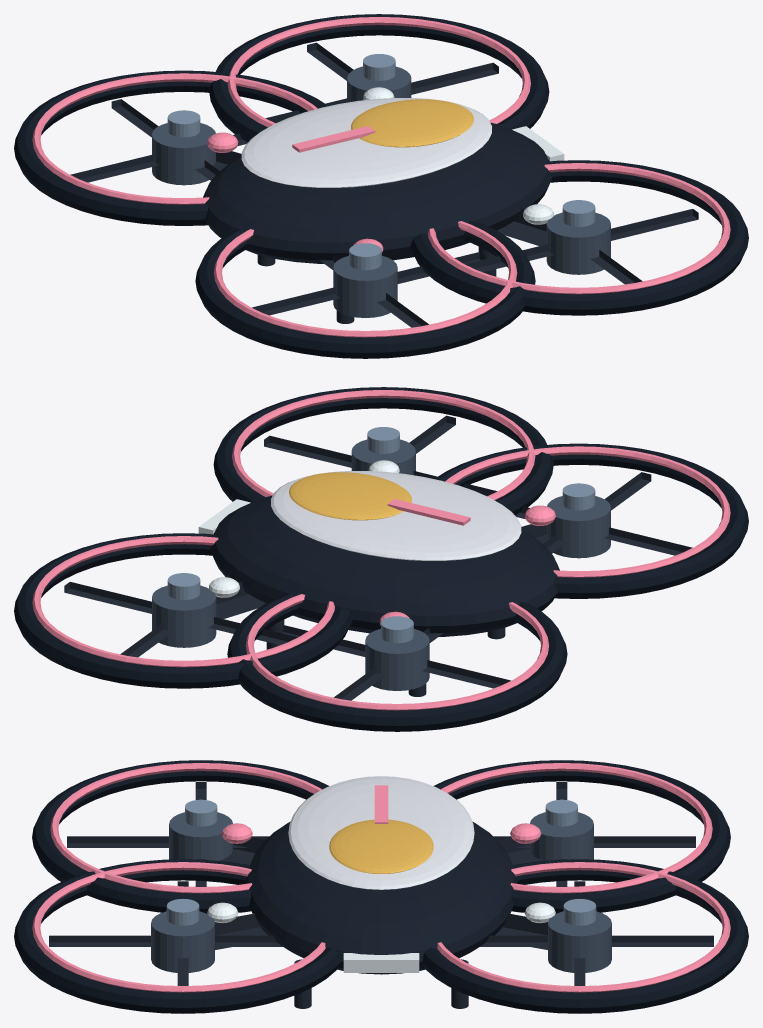
The model's file is festival_body.dae.
3 views of the same model, one above another, from view 1: azimuth 30°, elevation 25°; view 2: azimuth 150°, elevation 25°; view 3: azimuth 270°, elevation 25° (orthographic).
Parts seen in each view (by area): view 1: guard, shell, accent, top, carbon, motor, gold, silver, light; view 2: guard, shell, accent, top, carbon, motor, gold, silver, light; view 3: guard, shell, accent, top, carbon, motor, gold, silver, light.
Part boxes in pixels (box(x1,y1,x2,y2)): guard: box(14, 14, 748, 358); shell: box(203, 122, 552, 263); accent: box(32, 17, 730, 337); top: box(241, 98, 491, 187); carbon: box(70, 42, 698, 327); motor: box(152, 66, 610, 317); gold: box(351, 99, 473, 147); silver: box(167, 54, 595, 270); light: box(363, 87, 564, 224); guard: box(14, 387, 748, 731); shell: box(210, 495, 559, 636); accent: box(32, 390, 730, 710); top: box(271, 471, 521, 560); carbon: box(64, 415, 692, 700); motor: box(152, 439, 610, 690); gold: box(289, 472, 411, 520); silver: box(167, 427, 595, 643); light: box(198, 460, 399, 597); guard: box(14, 760, 748, 1013); shell: box(245, 821, 517, 974); accent: box(32, 763, 730, 992); top: box(288, 776, 474, 889); carbon: box(49, 782, 713, 1008); motor: box(151, 812, 611, 972); gold: box(329, 819, 433, 873); silver: box(166, 799, 596, 925); light: box(207, 902, 555, 972).
Bounding box in the file's own units: 0.9843 × 1.26 × 0.277.
